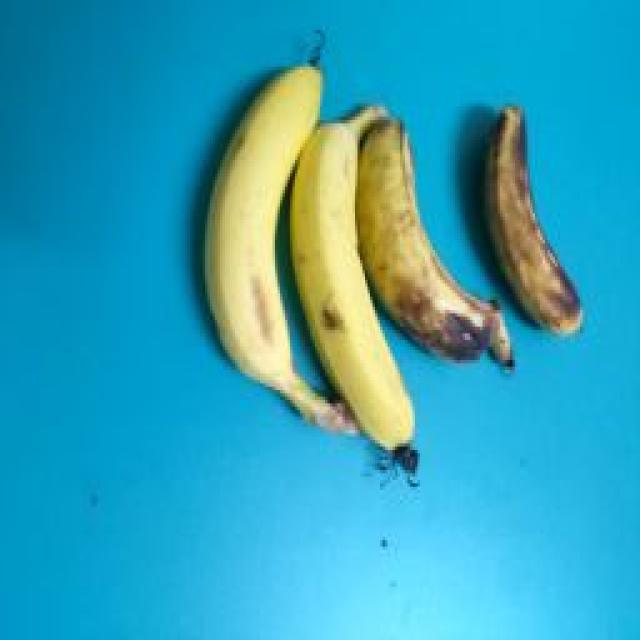Organik: (189, 36, 330, 434), (276, 92, 419, 468), (359, 103, 506, 377), (484, 67, 584, 354)
